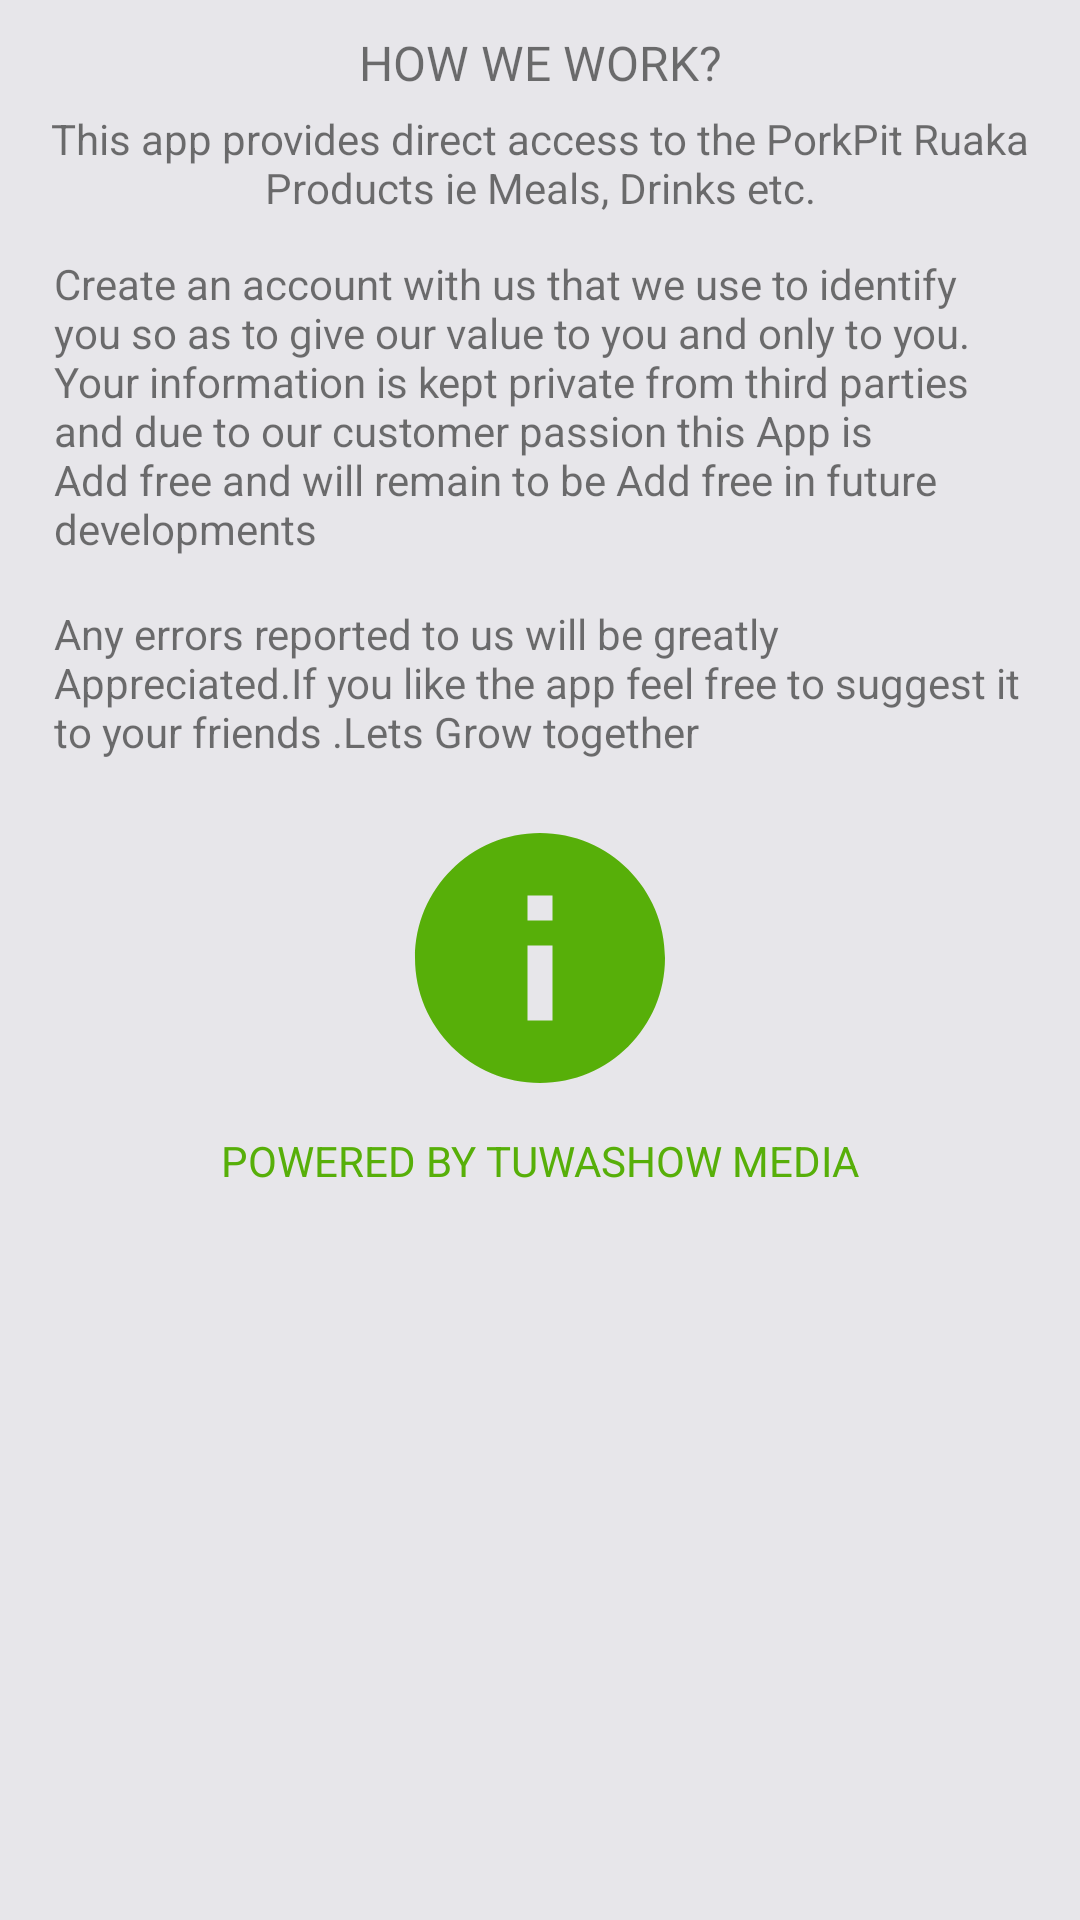

Point at icon controls on the screen. Image size 1080px×1920px, points as (x,y).
info: (540,958)
